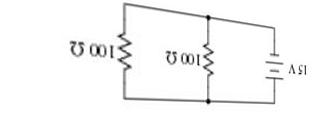resistor: (116, 28, 136, 70), (200, 37, 219, 71)
